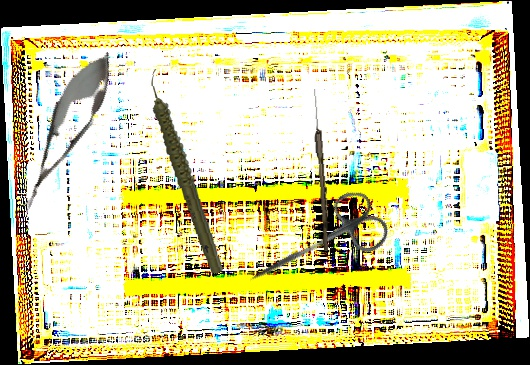Handpiece: (148, 64, 224, 278)
Iris Scissors: (235, 182, 395, 311)
Micro Scissor: (6, 41, 126, 220)
Surgical Spoon: (309, 88, 333, 252)
